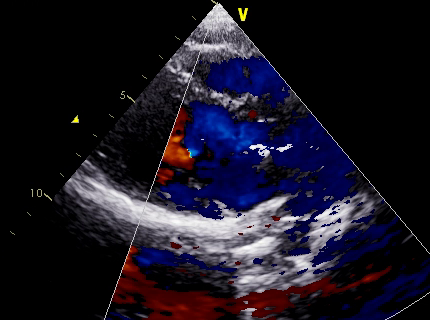MR: (153, 135, 233, 219)
